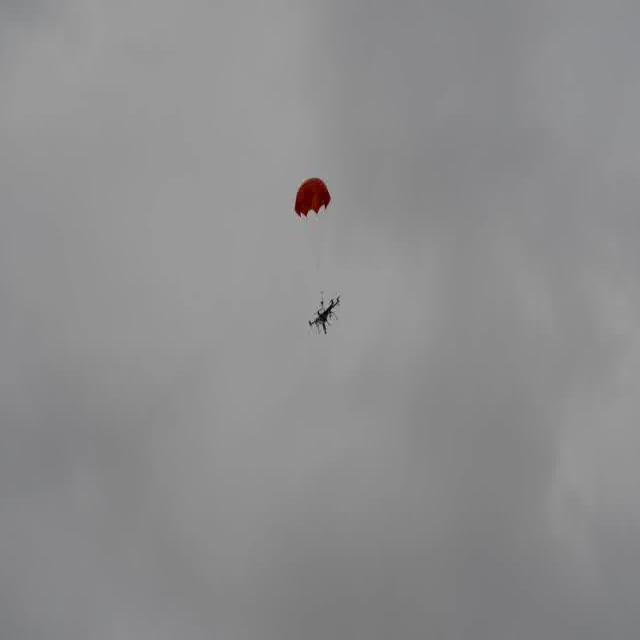drone: (306, 290, 342, 335)
